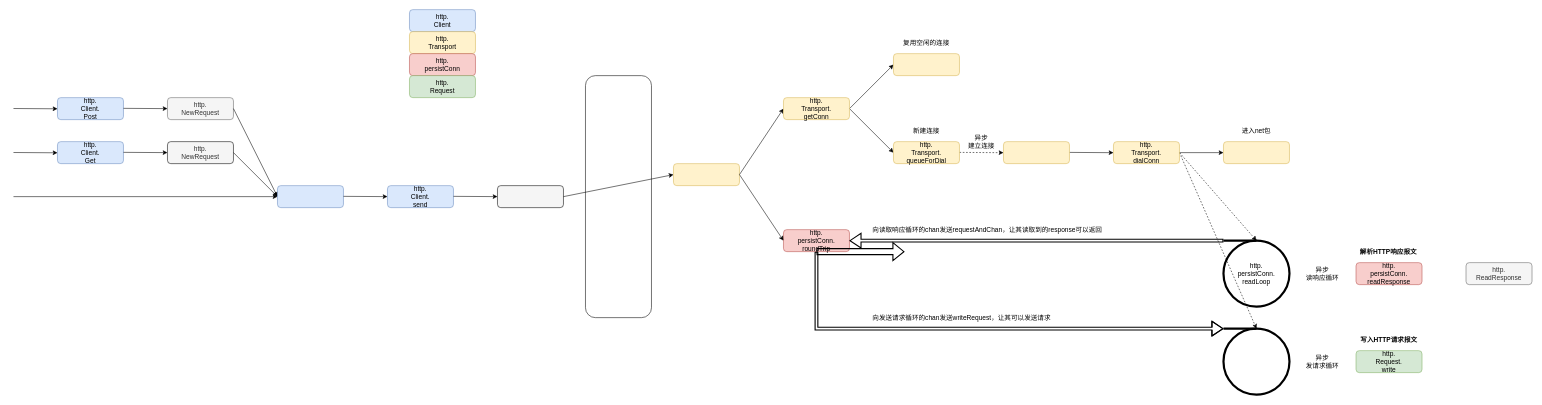
Image size: 1542x405. Some labels were removed from this diagram. The shapes that lost their labels are listed below. From the top down, each one's centre as x and y in pixels, then its label:
(926,64): http. Transport. queueForIdleConn
(1036,152): http. Transport. dialConnFor
(1256,152): http. Transport. dial
(706,174): http. Transport. RoundTrip
(310,196): http. Client. Do
(530,196): http. send
(618,196): http. RoundTripper. RoundTrip
(1256,361): http. persistConn. writeLoop
